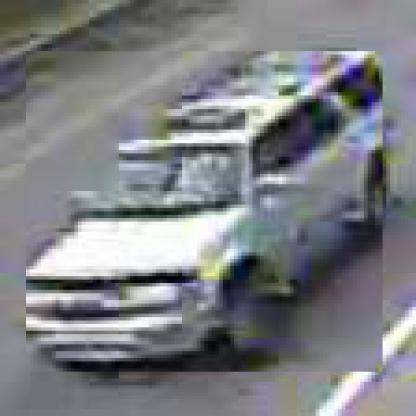car: (23, 52, 384, 376)
